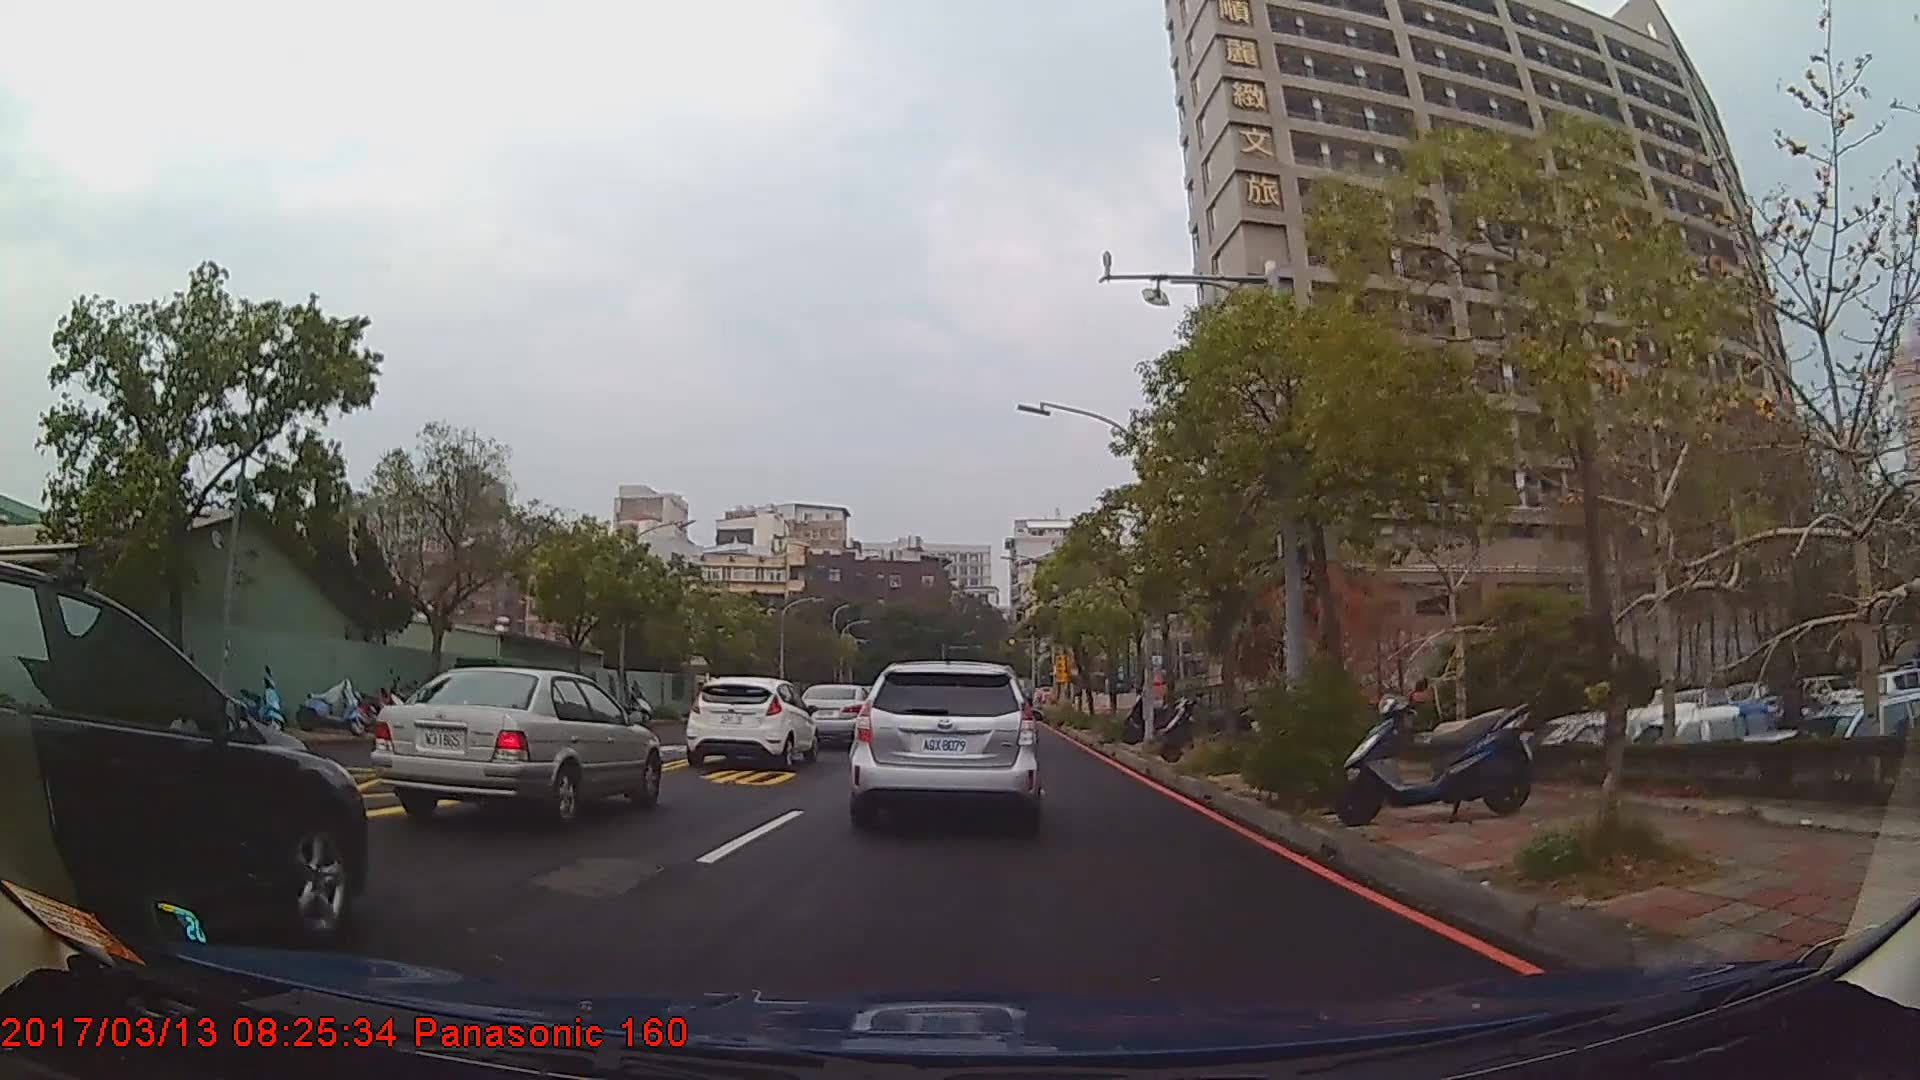vehicle: (0, 560, 368, 973), (369, 666, 661, 829), (847, 661, 1036, 828), (684, 675, 818, 769), (796, 683, 877, 745)
